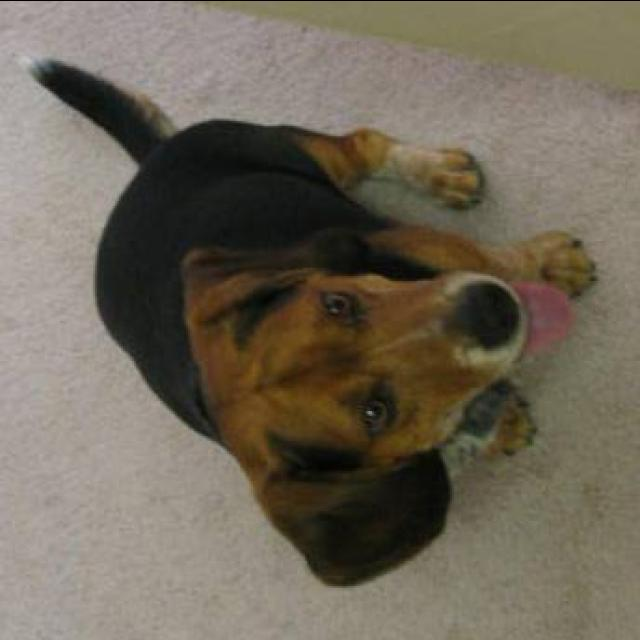dog: (0, 35, 623, 598)
